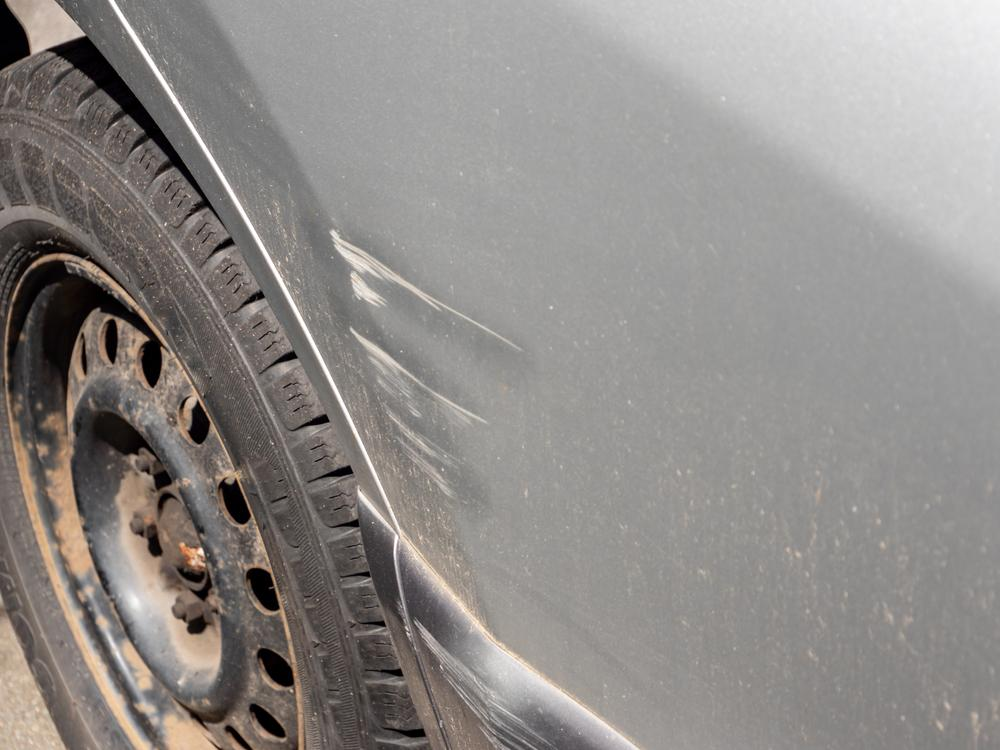scratch: (326, 214, 528, 530)
